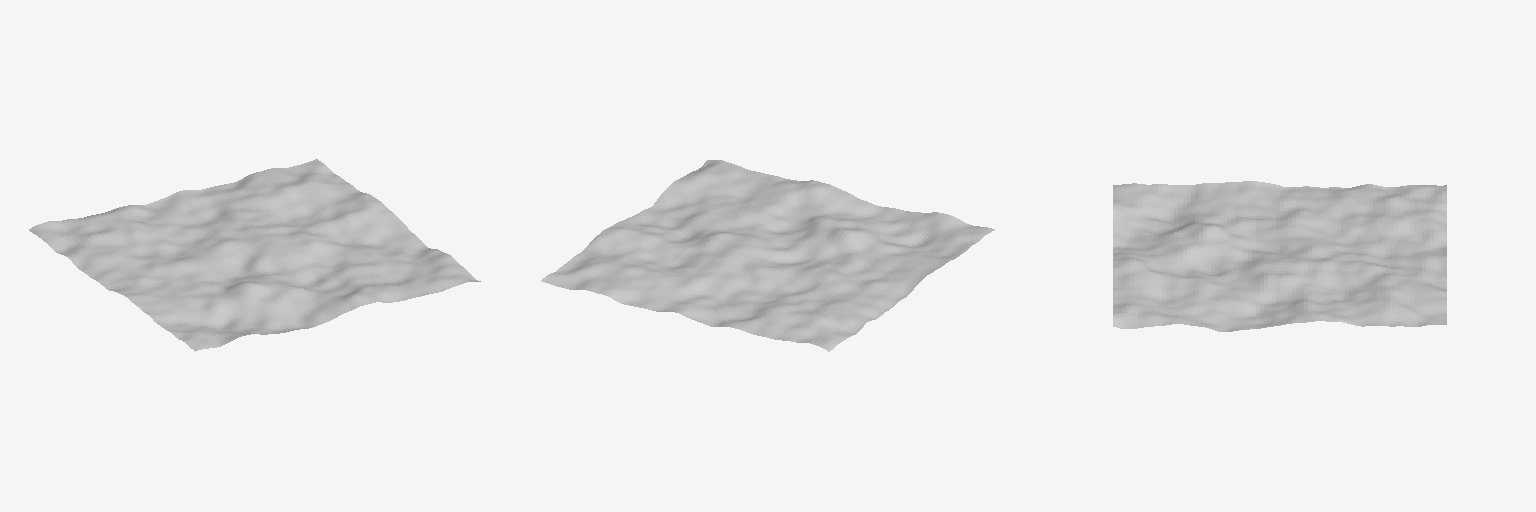
File: surf.obj
The picture shows the model from 3 angles: view 1: azimuth 30°, elevation 25°; view 2: azimuth 150°, elevation 25°; view 3: azimuth 270°, elevation 25°; orthographic projection.
Visible parts, largest first — view 1: Plane; view 2: Plane; view 3: Plane.
Part boxes in pixels (bbox=[...]): Plane: bbox=[29, 159, 480, 351]; Plane: bbox=[541, 160, 994, 351]; Plane: bbox=[1113, 181, 1446, 331].
Size of the model in its own units: 40 by 2.24 by 40.